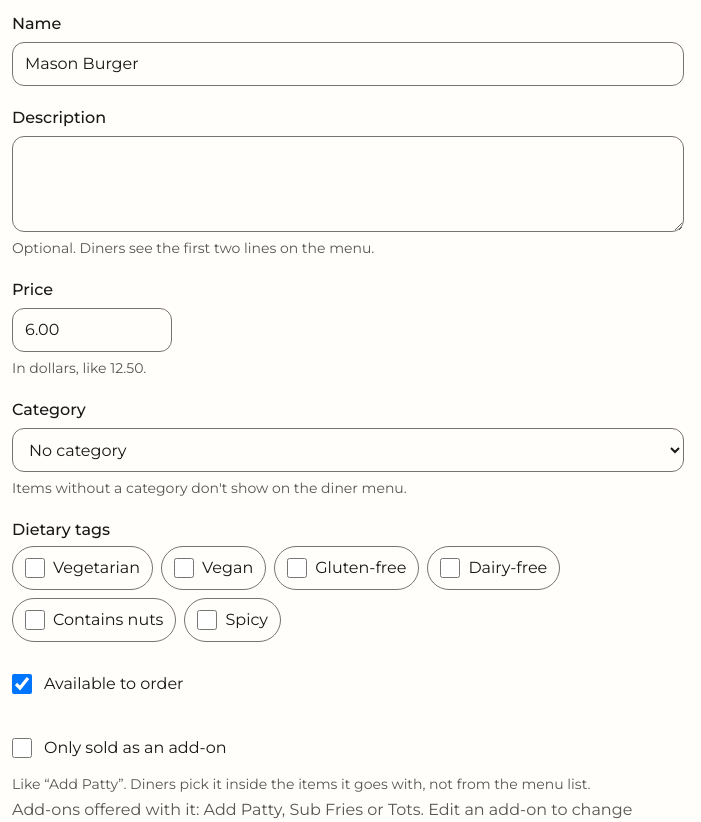
Test: ItemForm add-ons › names a regular item's add-ons, and warns before it becomes one itself
Click the checkbox labelled "Only sold as an add-on" at coordinates (22, 748), box [12,738,32,758]
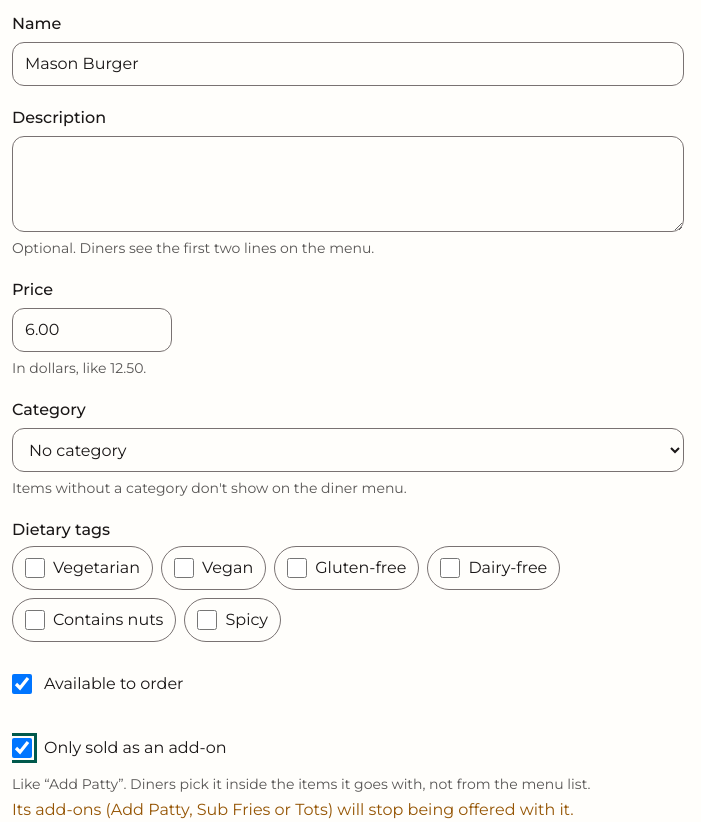
Expected: the text "will stop being offered with it" is shown, [328,800,574,819]
